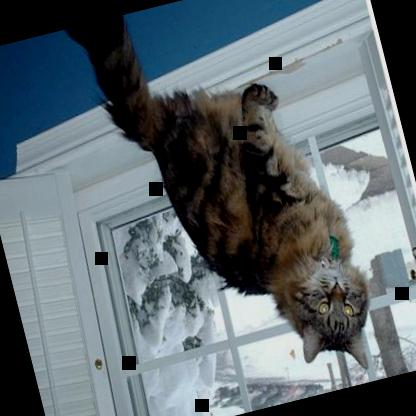cat: (62, 0, 388, 415)
